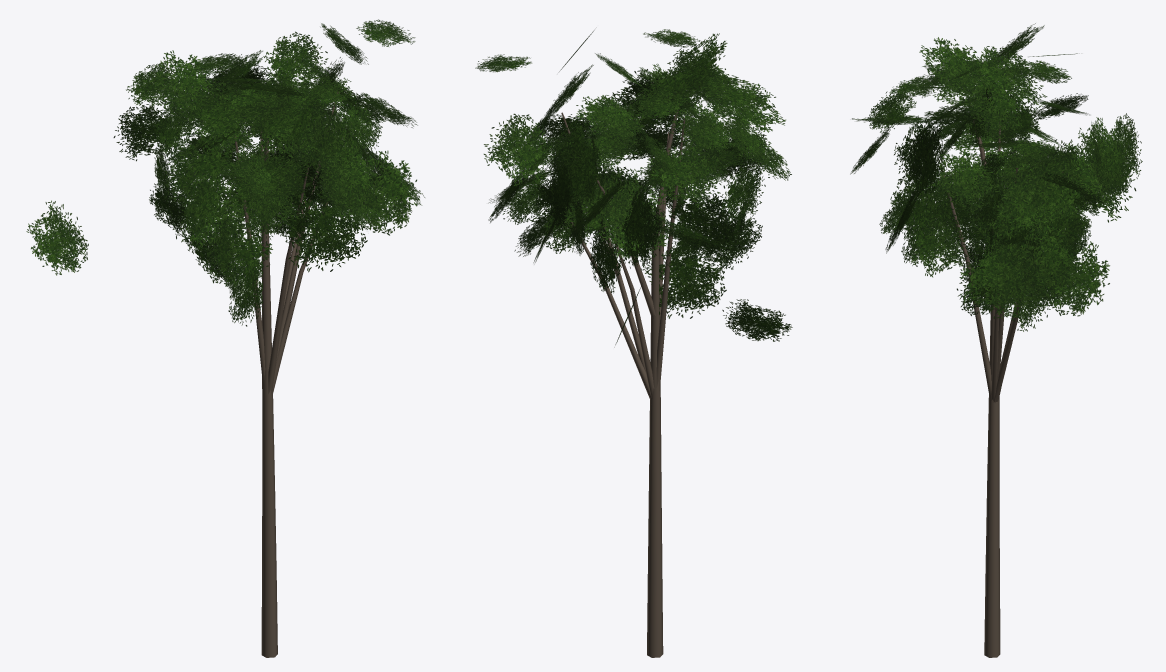
The model's file is Cay0_Keo.glb.
3 views of the same model, side by side, from view 1: azimuth 30°, elevation 25°; view 2: azimuth 150°, elevation 25°; view 3: azimuth 270°, elevation 25° (orthographic).
Parts seen in each view (by area): view 1: Cay0_Keo; view 2: Cay0_Keo; view 3: Cay0_Keo.
Part boxes in pixels (left/top/right/bottom): Cay0_Keo: left=26, top=19, right=424, bottom=657; Cay0_Keo: left=475, top=29, right=792, bottom=657; Cay0_Keo: left=850, top=23, right=1142, bottom=657.
Size of the model in its own units: 8.14 by 13.3 by 6.21.
Materials: 2 (1 with a texture image).
